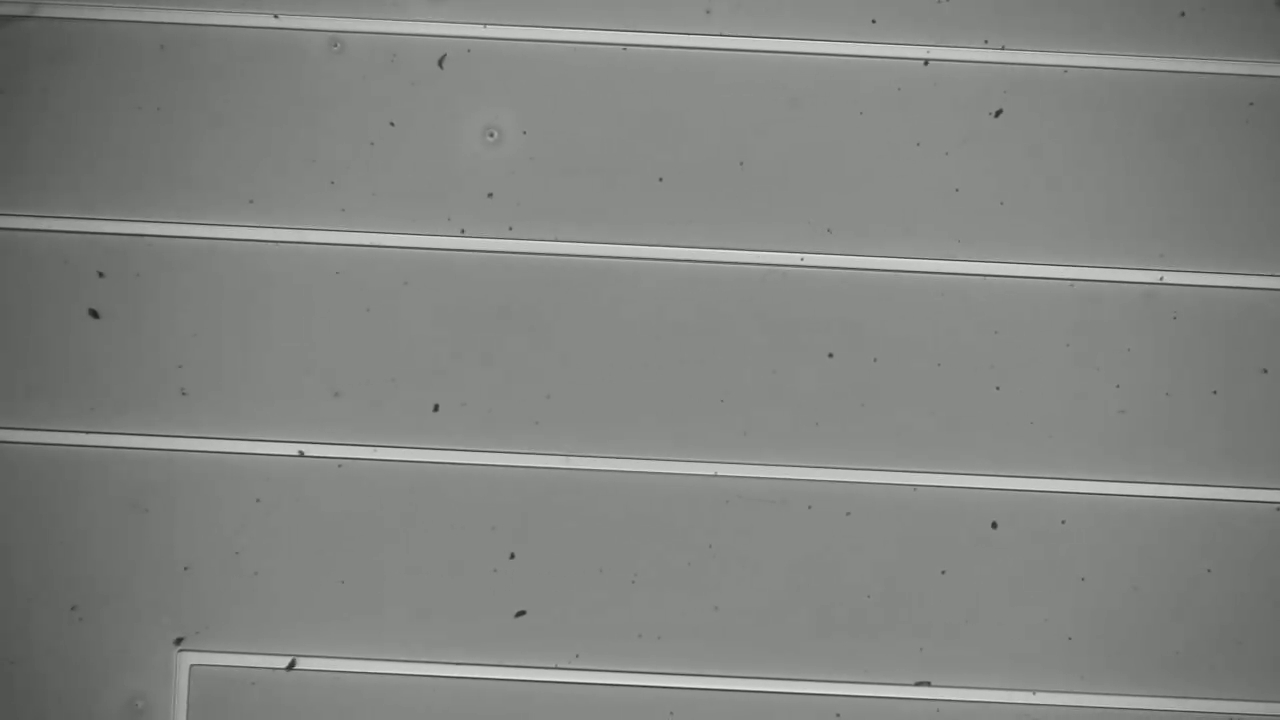stains_enbedded: (280, 645, 303, 682)
